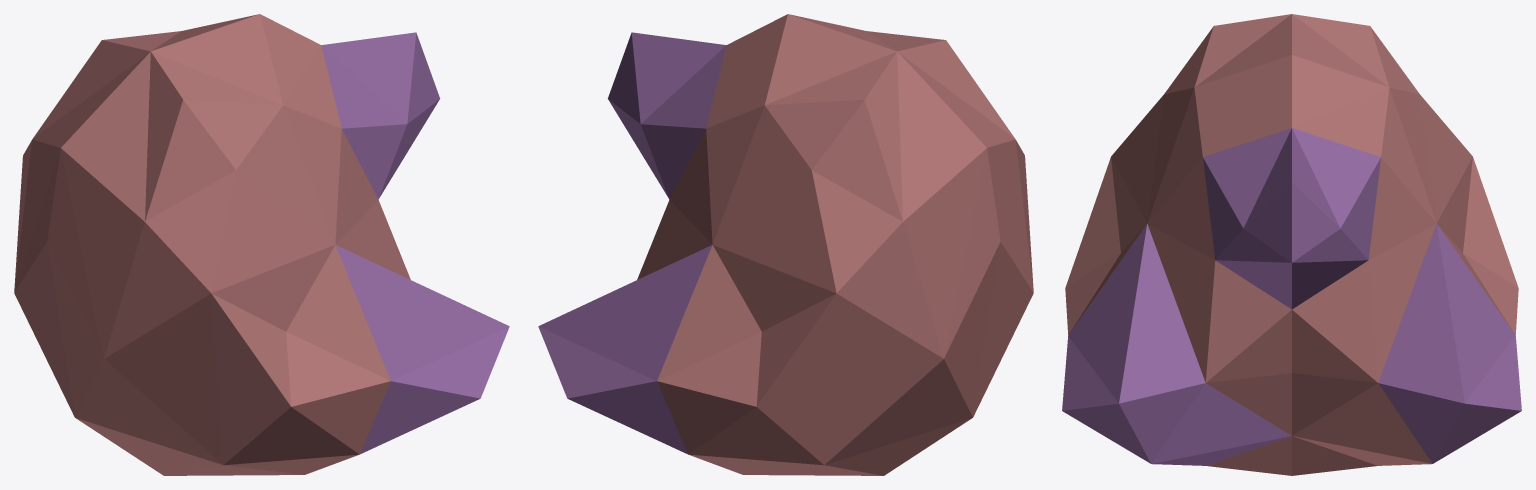
Rendered from Protein_1.fbx.
The picture shows the model from 3 angles, left to right: view 1: azimuth 30°, elevation 25°; view 2: azimuth 150°, elevation 25°; view 3: azimuth 270°, elevation 25°; orthographic projection. The views are drawn at different scales.
Parts seen in each view (by area): view 1: pCube3; view 2: pCube3; view 3: pCube3.
Boxes of the visible parts, <box> form: pCube3: <box>14,14,509,475</box>; pCube3: <box>538,14,1033,475</box>; pCube3: <box>1062,14,1521,475</box>.
Bounding box in the file's own units: 101 × 107 × 106.
